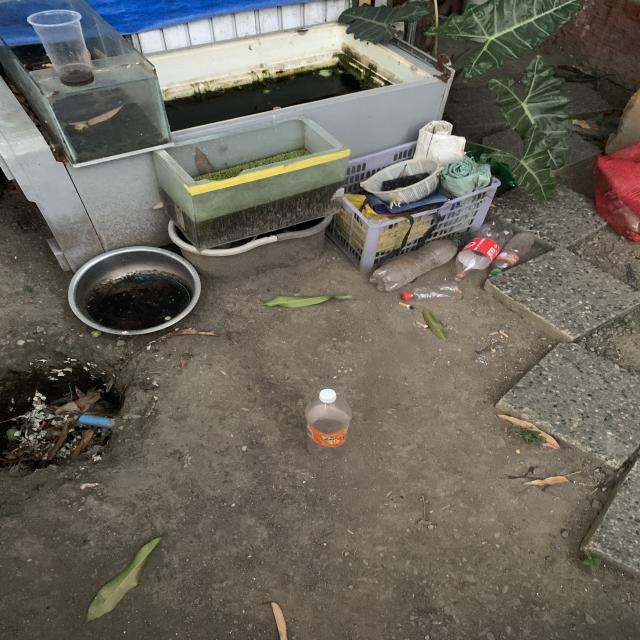Bottle: (305, 389, 352, 461)
